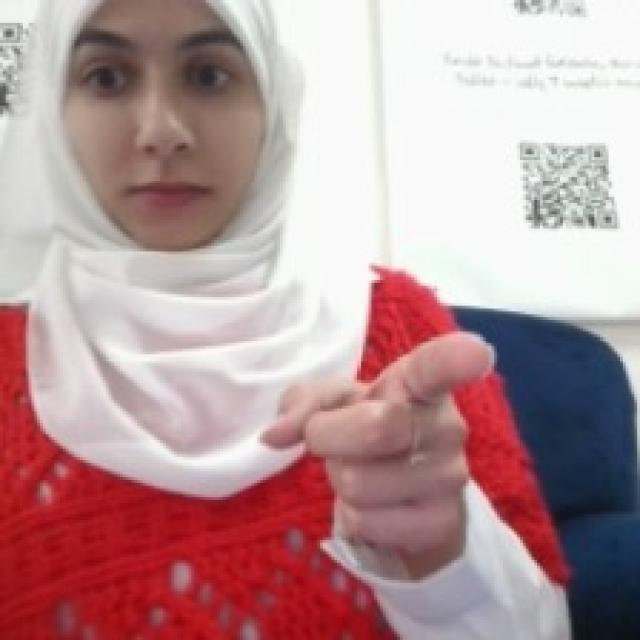you: (254, 323, 500, 591)
